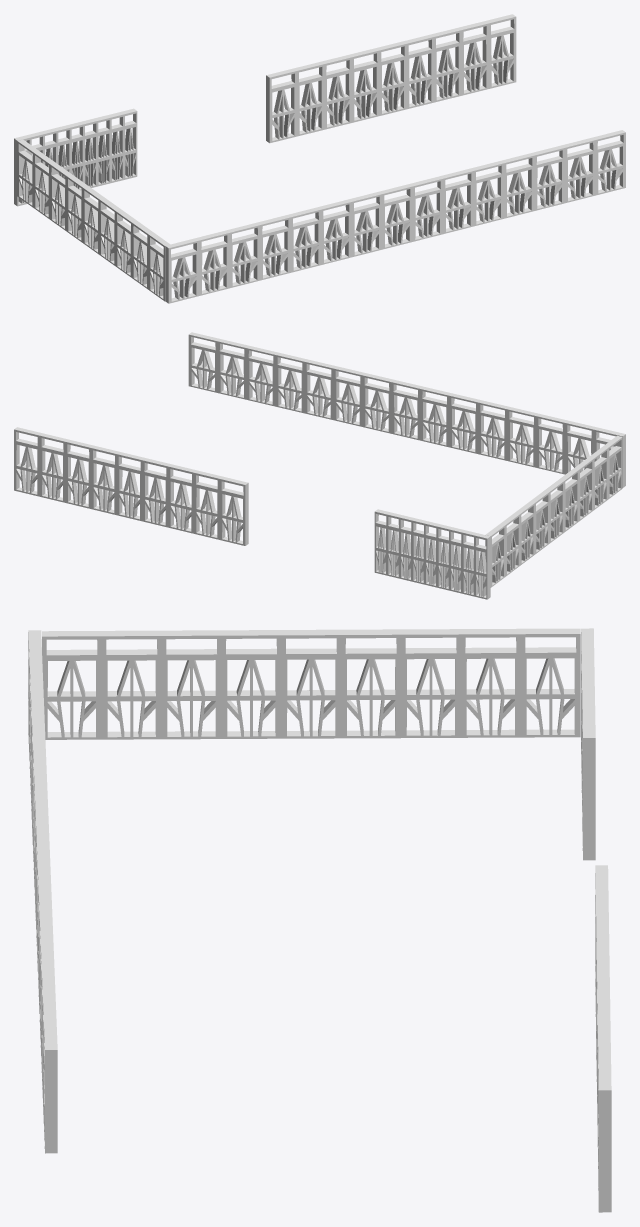
Rendered from Fence.glb.
3 views of the same model, one above another, from view 1: azimuth 30°, elevation 25°; view 2: azimuth 150°, elevation 25°; view 3: azimuth 270°, elevation 25° (orthographic). The views are drawn at different scales.
Parts seen in each view (by area): view 1: OutsidePatioItems, OutsidePatioItems.002, OutsidePatioItems.001, OutsidePatioItems.003; view 2: OutsidePatioItems, OutsidePatioItems.002, OutsidePatioItems.001, OutsidePatioItems.003; view 3: OutsidePatioItems.001, OutsidePatioItems, OutsidePatioItems.002, OutsidePatioItems.003.
Part boxes in pixels (x1=…): OutsidePatioItems: x1=165, y1=130, x2=625, y2=303; OutsidePatioItems.002: x1=266, y1=14, x2=516, y2=143; OutsidePatioItems.001: x1=17, y1=139, x2=170, y2=301; OutsidePatioItems.003: x1=14, y1=108, x2=137, y2=206; OutsidePatioItems: x1=188, y1=332, x2=625, y2=487; OutsidePatioItems.002: x1=14, y1=427, x2=248, y2=545; OutsidePatioItems.001: x1=485, y1=435, x2=622, y2=587; OutsidePatioItems.003: x1=374, y1=509, x2=490, y2=599; OutsidePatioItems.001: x1=42, y1=628, x2=580, y2=739; OutsidePatioItems: x1=28, y1=630, x2=57, y2=1153; OutsidePatioItems.002: x1=595, y1=865, x2=611, y2=1212; OutsidePatioItems.003: x1=581, y1=628, x2=595, y2=860.
Bounding box in the file's own units: 9.86 × 1.28 × 5.31.
1 material, 1 textured.
